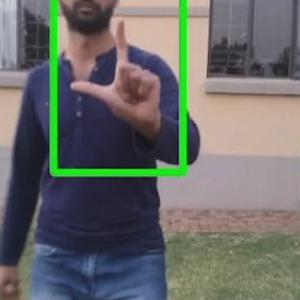land_hand: (66, 11, 169, 140)
